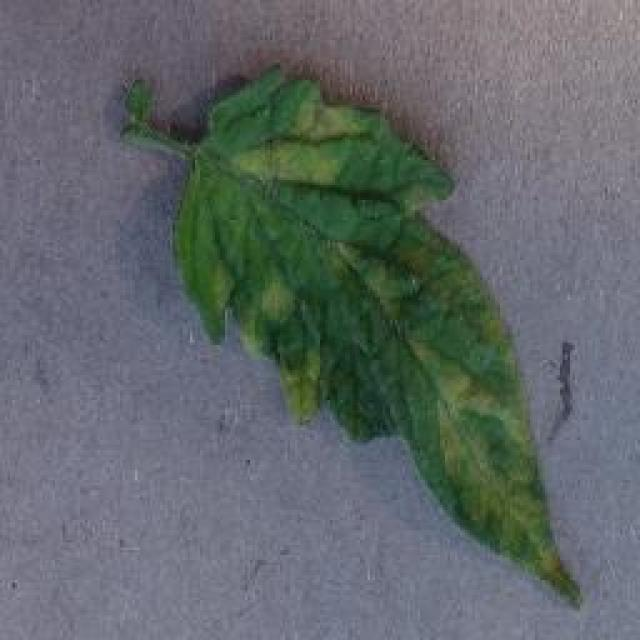Tomato___Leaf_Mold: (115, 65, 580, 608)
